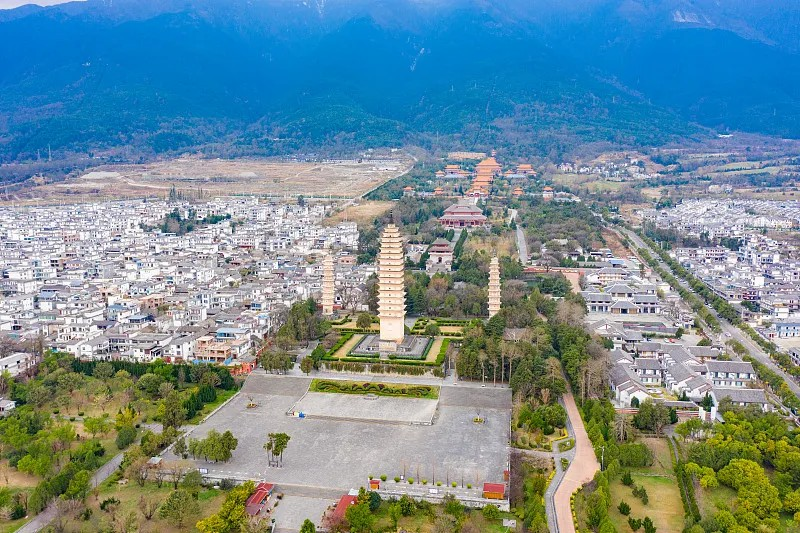ThreePagoda: (375, 209, 408, 345)
